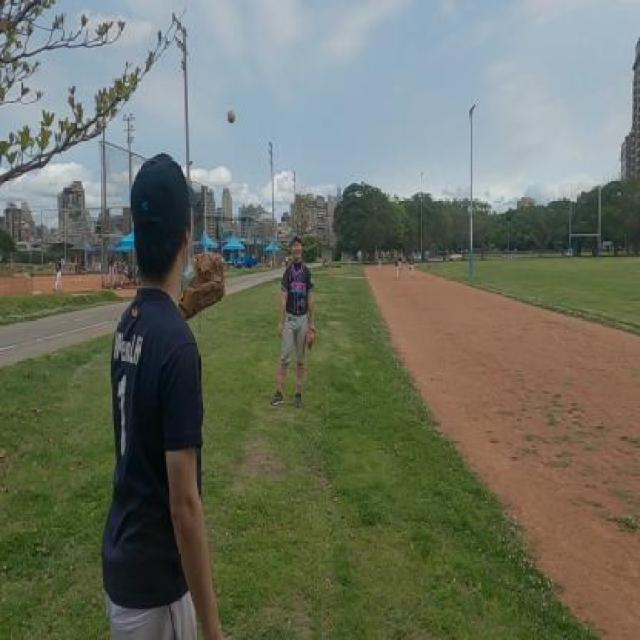baseball: (227, 107, 236, 125)
